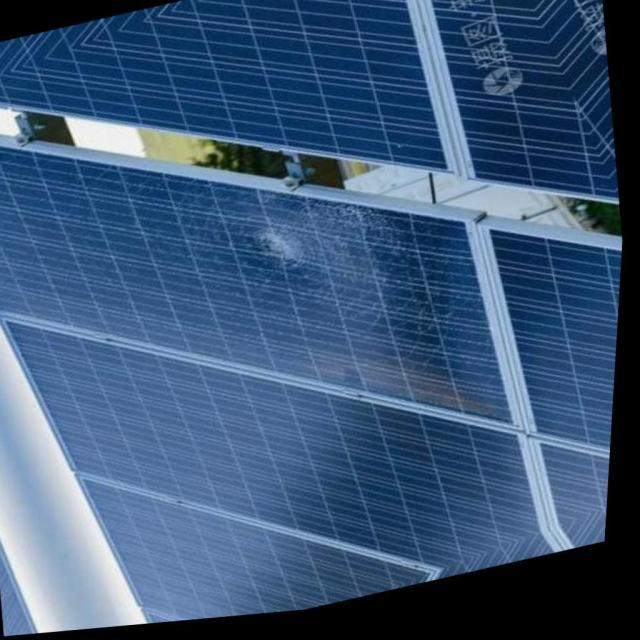cracked: (1, 148, 512, 426)
